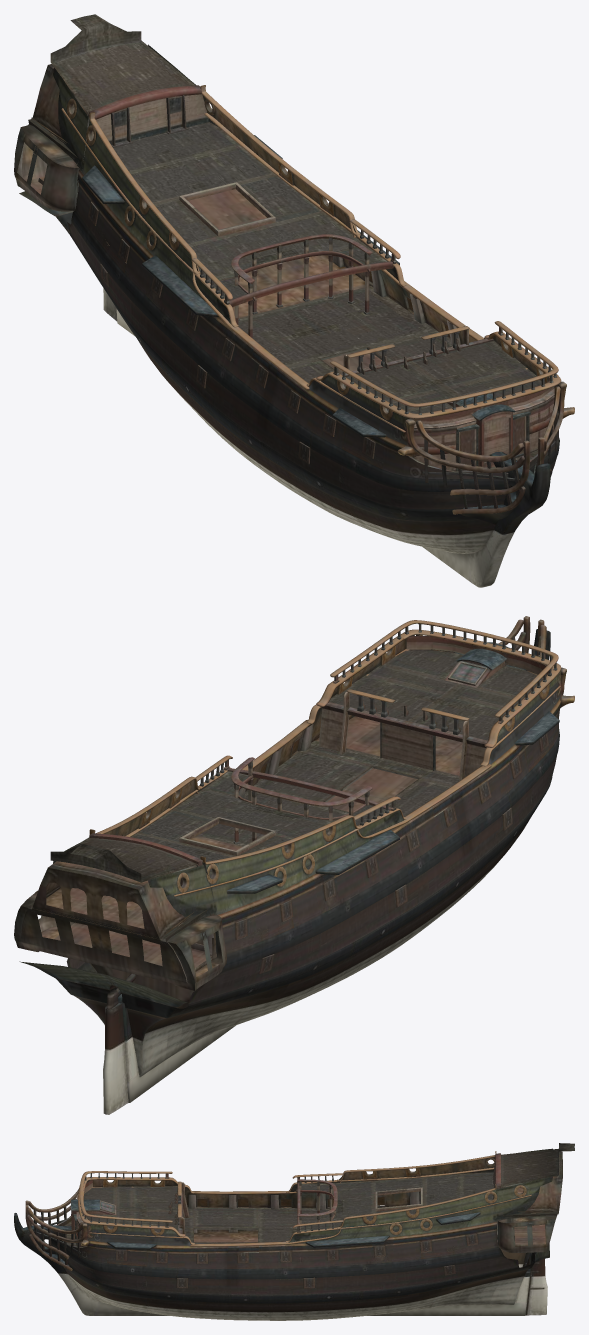
File: fishing-boat.glb
3 views of the same model, one above another, from view 1: azimuth 30°, elevation 25°; view 2: azimuth 150°, elevation 25°; view 3: azimuth 270°, elevation 25° (orthographic). The views are drawn at different scales.
Visible parts, largest first — view 1: ship_pinnace_hull, ship_pinnace_deck, ship_pinnace_interior; view 2: ship_pinnace_hull, ship_pinnace_deck, ship_pinnace_interior; view 3: ship_pinnace_hull, ship_pinnace_deck, ship_pinnace_interior.
Boxes of the visible parts, <box> form: ship_pinnace_hull: <box>19,44,574,587</box>; ship_pinnace_deck: <box>50,14,558,471</box>; ship_pinnace_interior: <box>14,64,549,458</box>; ship_pinnace_hull: <box>19,616,574,1114</box>; ship_pinnace_deck: <box>50,624,557,892</box>; ship_pinnace_interior: <box>14,638,543,1008</box>; ship_pinnace_hull: <box>14,1148,552,1320</box>; ship_pinnace_deck: <box>64,1143,574,1246</box>; ship_pinnace_interior: <box>58,1151,562,1257</box>.
Size of the model in its own units: 9.07 by 11.4 by 34.53.
3 materials, 3 textured.
